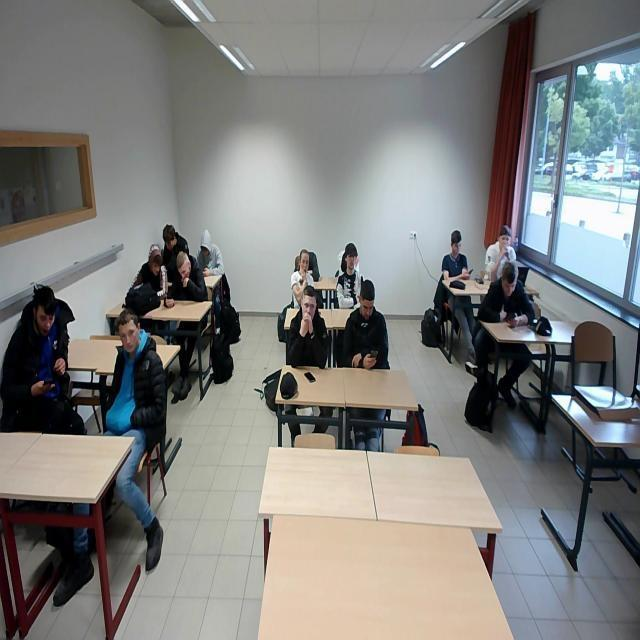phone_use: (1, 284, 72, 427), (342, 279, 387, 367), (477, 261, 533, 325), (167, 251, 206, 300), (441, 229, 468, 278)
